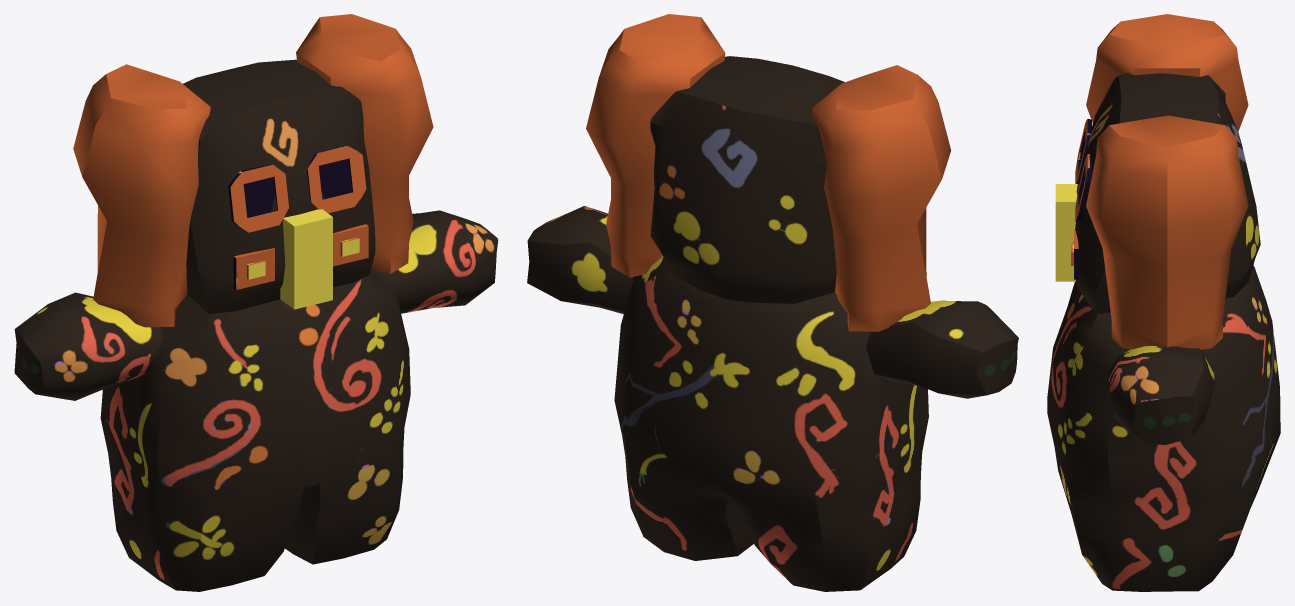
File: MARIMONDA_2_CAFE.fbx
3 renders of one model, left to right at view 1: azimuth 30°, elevation 25°; view 2: azimuth 150°, elevation 25°; view 3: azimuth 270°, elevation 25°, orthographic. The views are drawn at different scales.
Parts seen in each view (by area): view 1: cuerpo, orejas, ojos, nariz; view 2: cuerpo, orejas; view 3: cuerpo, orejas, nariz, ojos.
Part boxes in pixels (left/top/right/bottom): cuerpo: left=14, top=59, right=498, bottom=591; orejas: left=73, top=14, right=433, bottom=327; ojos: left=228, top=145, right=368, bottom=289; nariz: left=280, top=209, right=332, bottom=309; cuerpo: left=527, top=56, right=1018, bottom=591; orejas: left=586, top=14, right=951, bottom=331; cuerpo: left=1047, top=72, right=1280, bottom=591; orejas: left=1086, top=14, right=1248, bottom=349; nariz: left=1055, top=184, right=1077, bottom=281; ojos: left=1071, top=119, right=1091, bottom=279.
Size of the model in its own units: 792 by 790 by 358.
